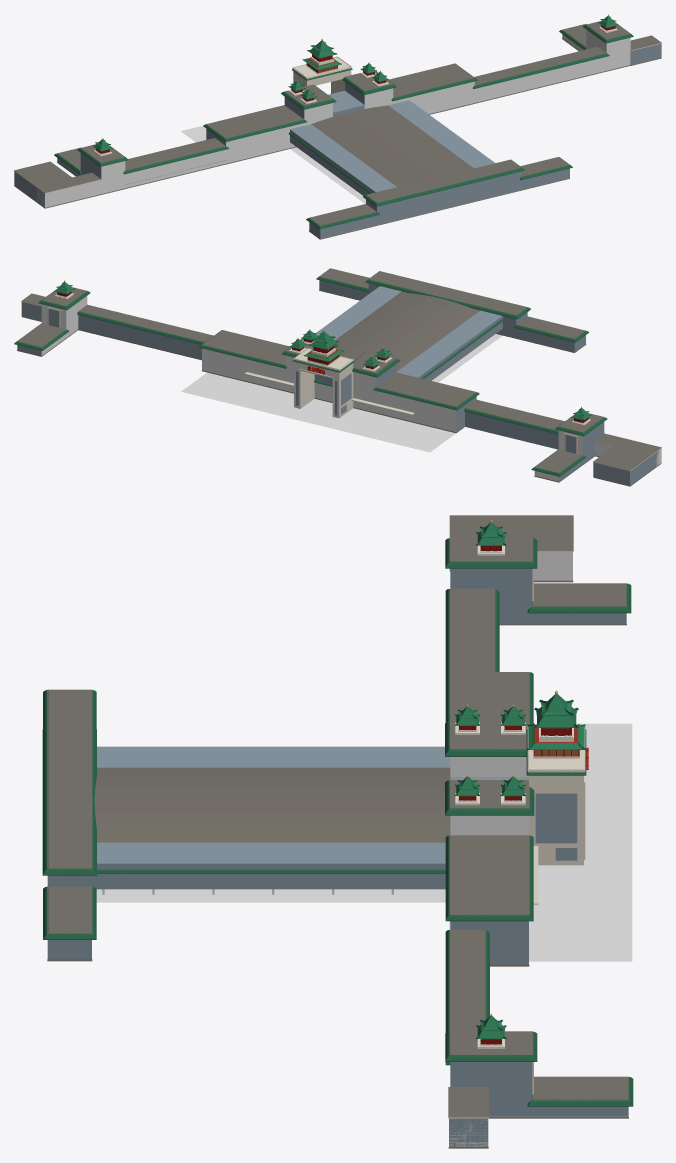
File: weststation.glb
3 renders of one model, top to bottom at view 1: azimuth 30°, elevation 25°; view 2: azimuth 150°, elevation 25°; view 3: azimuth 270°, elevation 25°, orthographic. The views are drawn at different scales.
Visible parts, largest first — view 1: Station, Massing, COL_wingE, COL_mainW, COL_mainE, COL_wingW, COL_ting.001, COL_annex, Pavilions, COL_ting, CLEAR_hallClear, COL_tall.001 (+2 smaller); view 2: Station, Massing, FOOTPRINT_forecourt, COL_mainE, COL_mainW, COL_tall, Pavilions, COL_ting.001, CLEAR_hallClear; view 3: Station, Massing, FOOTPRINT_forecourt, CLEAR_hallClear, Pavilions, COL_tall.001, COL_tall, COL_annex.001.
Boxes of the visible parts, x1,y1,x2,y2 form: Station: [14, 21, 661, 239]; Massing: [14, 16, 661, 238]; COL_wingE: [474, 57, 606, 102]; COL_mainW: [226, 123, 304, 163]; COL_mainE: [393, 81, 474, 113]; COL_wingW: [125, 149, 225, 184]; COL_ting.001: [586, 29, 630, 70]; COL_annex: [36, 180, 101, 207]; Pavilions: [93, 14, 618, 154]; COL_ting: [101, 161, 125, 193]; CLEAR_hallClear: [290, 147, 365, 203]; COL_tall.001: [364, 88, 393, 108]; Station: [14, 268, 661, 486]; Massing: [17, 282, 658, 485]; FOOTPRINT_forecourt: [181, 372, 455, 452]; COL_mainE: [202, 348, 285, 390]; COL_mainW: [376, 391, 464, 432]; COL_tall: [353, 372, 376, 412]; Pavilions: [54, 280, 591, 423]; COL_ting.001: [41, 296, 87, 337]; CLEAR_hallClear: [432, 334, 502, 382]; Station: [42, 515, 633, 1148]; Massing: [97, 522, 626, 1146]; FOOTPRINT_forecourt: [529, 723, 632, 961]; CLEAR_hallClear: [96, 889, 445, 902]; Pavilions: [455, 520, 578, 1046]; COL_tall.001: [450, 815, 528, 835]; COL_tall: [450, 757, 528, 776]; COL_annex.001: [534, 552, 572, 580].
Size of the model in its own units: 857 by 102 by 355.
Materials: 15 (4 with a texture image).
